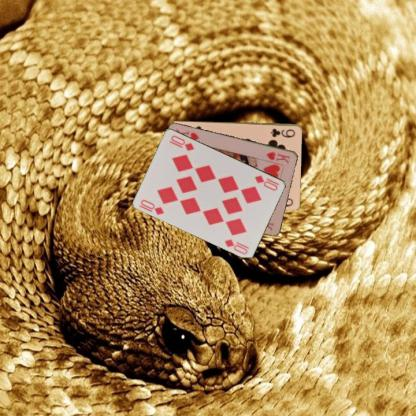10d: (252, 172, 281, 192), (138, 197, 166, 216)
9c: (268, 126, 296, 139)
Kh: (264, 149, 291, 165)
